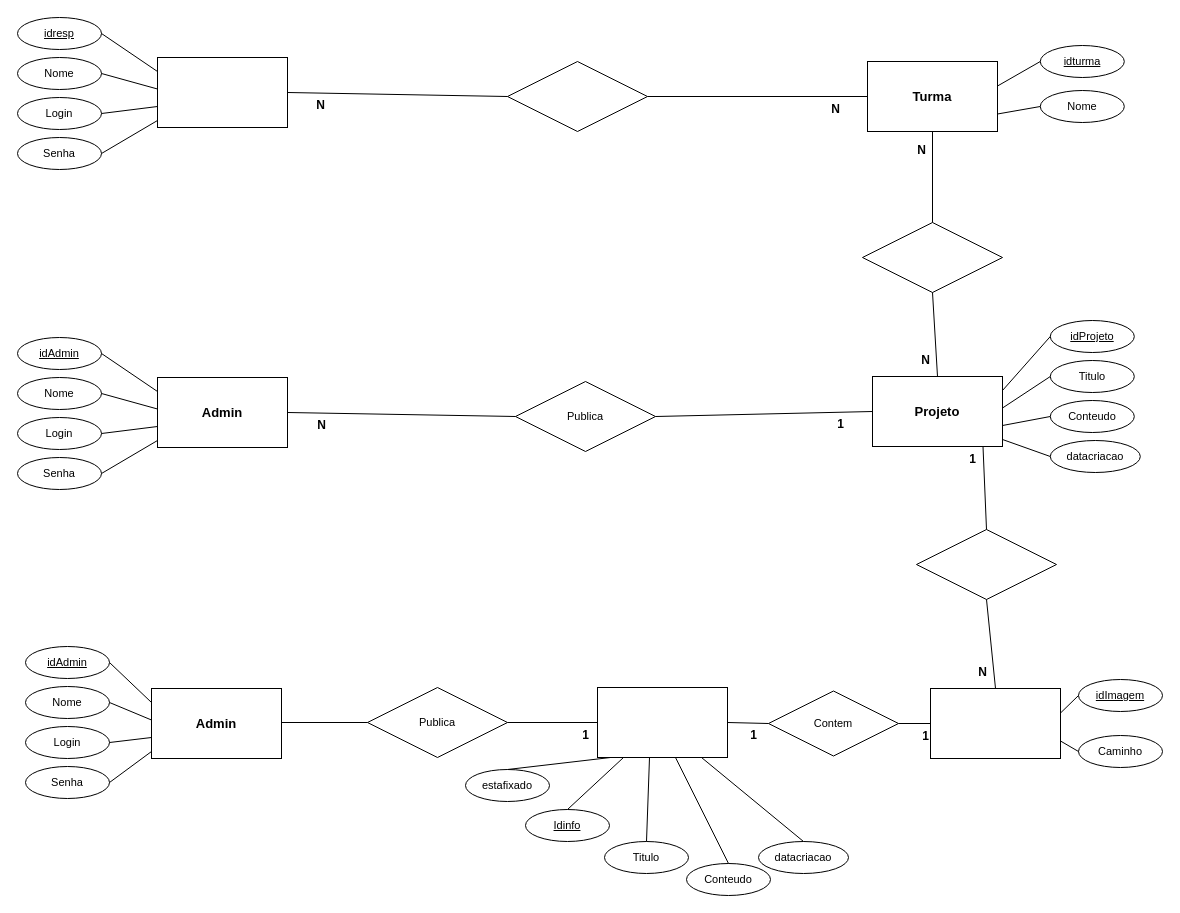
Image size: 1180x913. Some labels were removed from this diagram. The centre of each missing label's shape, as x and y in pixels:
"Contém" goes at point (986, 564).
"Imagem" goes at point (995, 723).
"Informativos" goes at point (662, 722).
"Responsavel" goes at point (222, 92).
"Tem filho" goes at point (577, 96).
"Vinculado a" goes at point (932, 257).
